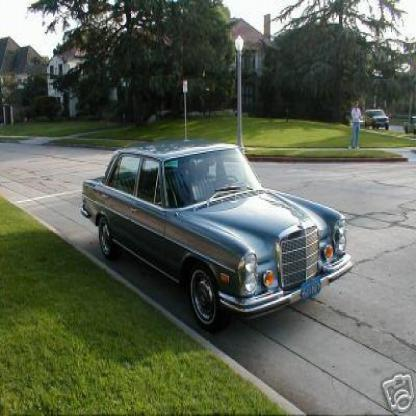car: (82, 138, 353, 331), (363, 108, 391, 133)
person: (351, 101, 362, 151)
